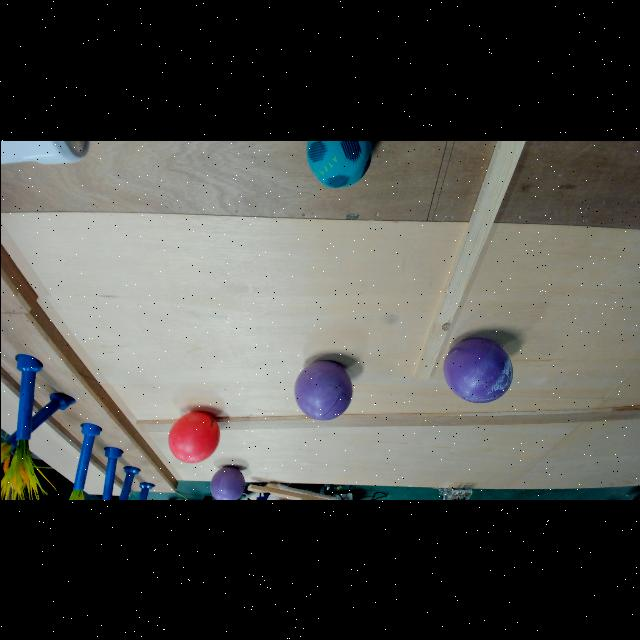P: (442, 336, 512, 404), (294, 359, 352, 421), (209, 466, 245, 500)
R: (167, 411, 220, 464)
